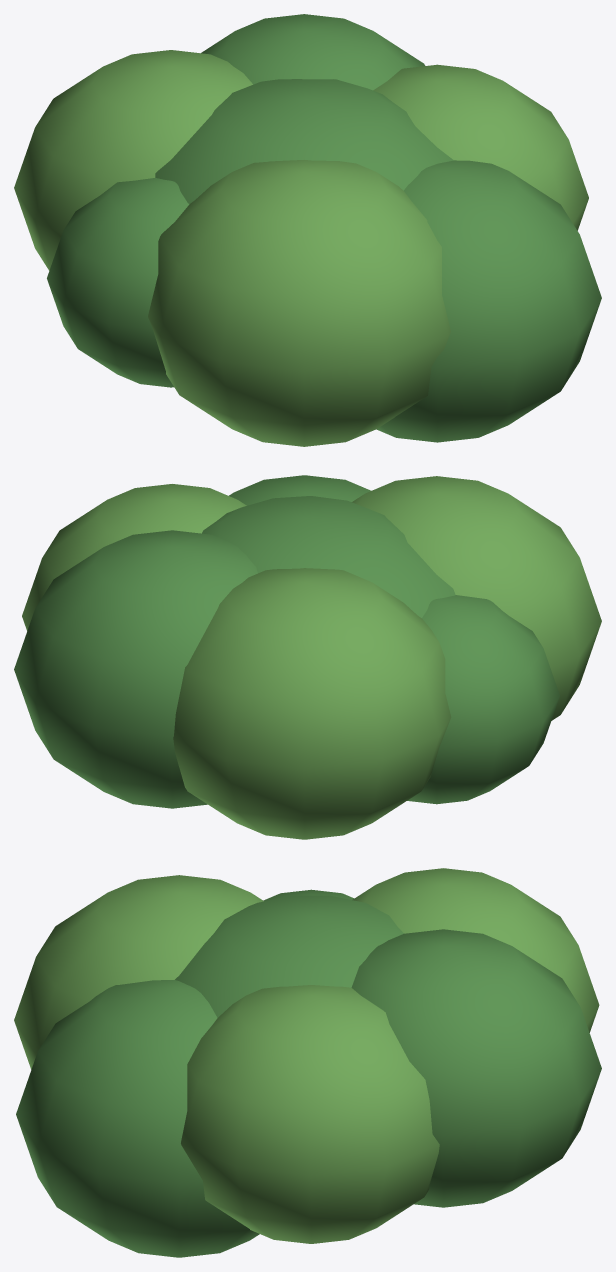
Rendered from bush.glb.
The picture shows the model from 3 angles, top to bottom: view 1: azimuth 30°, elevation 25°; view 2: azimuth 150°, elevation 25°; view 3: azimuth 270°, elevation 25°; orthographic projection.
Parts seen in each view (by area): view 1: bu_ball.004, bu_ball.005, bu_ball.002, bu_core, bu_ball.003, bu_ball, bu_ball.001; view 2: bu_ball.002, bu_ball.001, bu_ball.004, bu_ball.003, bu_core, bu_ball, bu_ball.005; view 3: bu_ball, bu_ball.001, bu_ball.005, bu_ball.004, bu_core, bu_ball.002.
Part boxes in pixels (x1=…): bu_ball.004: x1=148, y1=160, x2=450, y2=446; bu_ball.005: x1=376, y1=160, x2=601, y2=442; bu_ball.002: x1=14, y1=50, x2=252, y2=270; bu_core: x1=155, y1=79, x2=453, y2=203; bu_ball.003: x1=47, y1=178, x2=189, y2=387; bu_ball: x1=373, y1=64, x2=588, y2=230; bu_ball.001: x1=201, y1=14, x2=425, y2=90; bu_ball.002: x1=173, y1=568, x2=451, y2=839; bu_ball.001: x1=14, y1=530, x2=257, y2=808; bu_ball.004: x1=352, y1=476, x2=601, y2=720; bu_ball.003: x1=407, y1=595, x2=559, y2=804; bu_core: x1=202, y1=496, x2=455, y2=617; bu_ball: x1=22, y1=484, x2=246, y2=630; bu_ball.005: x1=229, y1=475, x2=371, y2=505; bu_ball: x1=181, y1=985, x2=439, y2=1243; bu_ball.001: x1=351, y1=929, x2=601, y2=1207; bu_ball.005: x1=16, y1=980, x2=259, y2=1257; bu_ball.004: x1=14, y1=875, x2=263, y2=1069; bu_core: x1=175, y1=895, x2=403, y2=1017; bu_ball.002: x1=352, y1=868, x2=599, y2=1032.
Size of the model in its own units: 0.7591 by 0.4248 by 0.7707.
